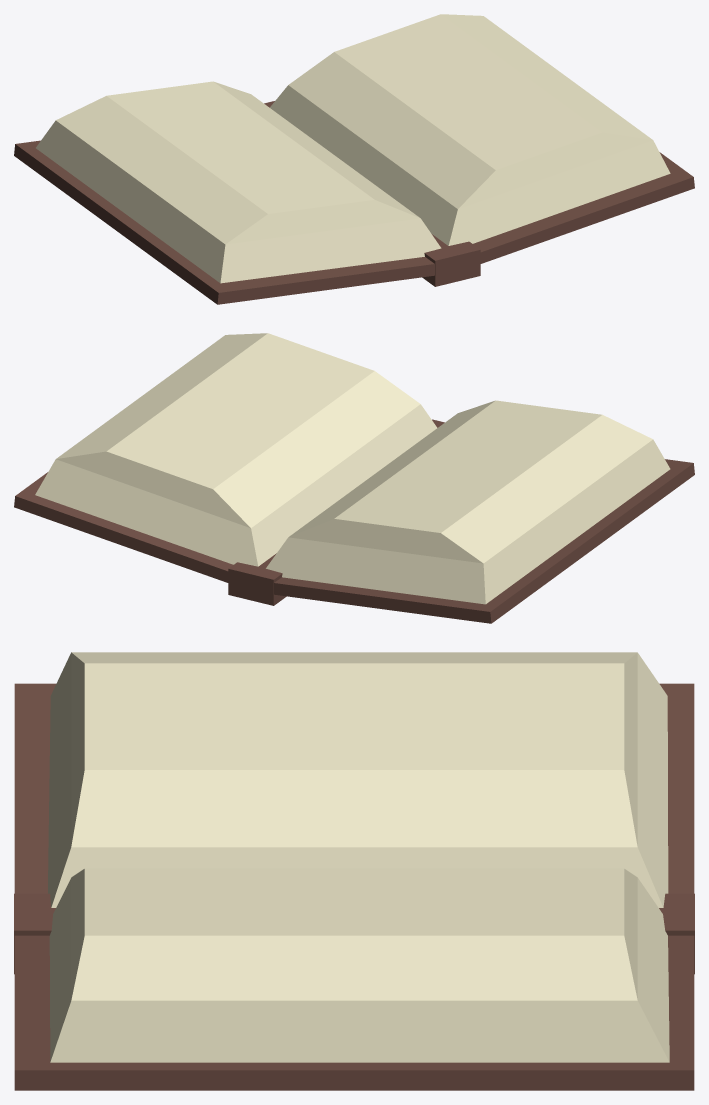
Rendered from Manifest.fbx.
3 views of the same model, one above another, from view 1: azimuth 30°, elevation 25°; view 2: azimuth 150°, elevation 25°; view 3: azimuth 270°, elevation 25° (orthographic). The views are drawn at different scales.
Parts seen in each view (by area): view 1: pCube31; view 2: pCube31; view 3: pCube31.
Boxes of the visible parts, left/top/right/bottom form: pCube31: left=14, top=14, right=694, bottom=304; pCube31: left=14, top=333, right=694, bottom=623; pCube31: left=14, top=652, right=694, bottom=1090.
Size of the model in its own units: 133 by 24.78 by 98.54.
